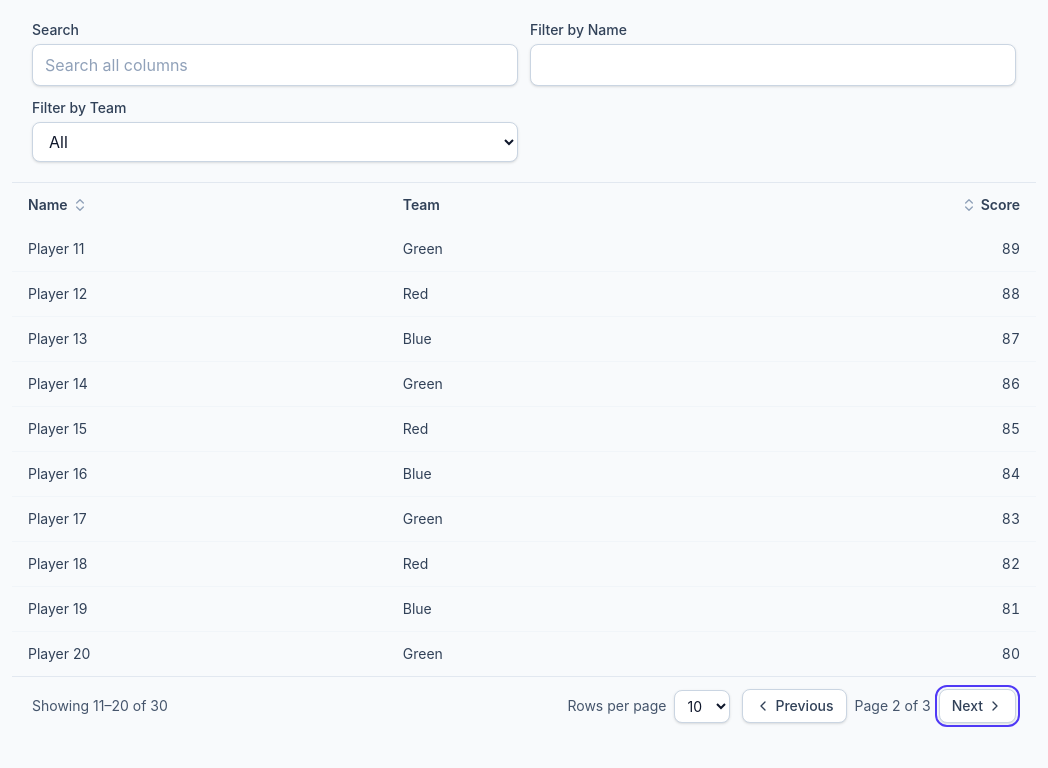
DataTable › keeps focus on Next when it reaches the last page
This screenshot has width=1048, height=768.
Click the button "Next": (977, 706) [939,689,1016,723]
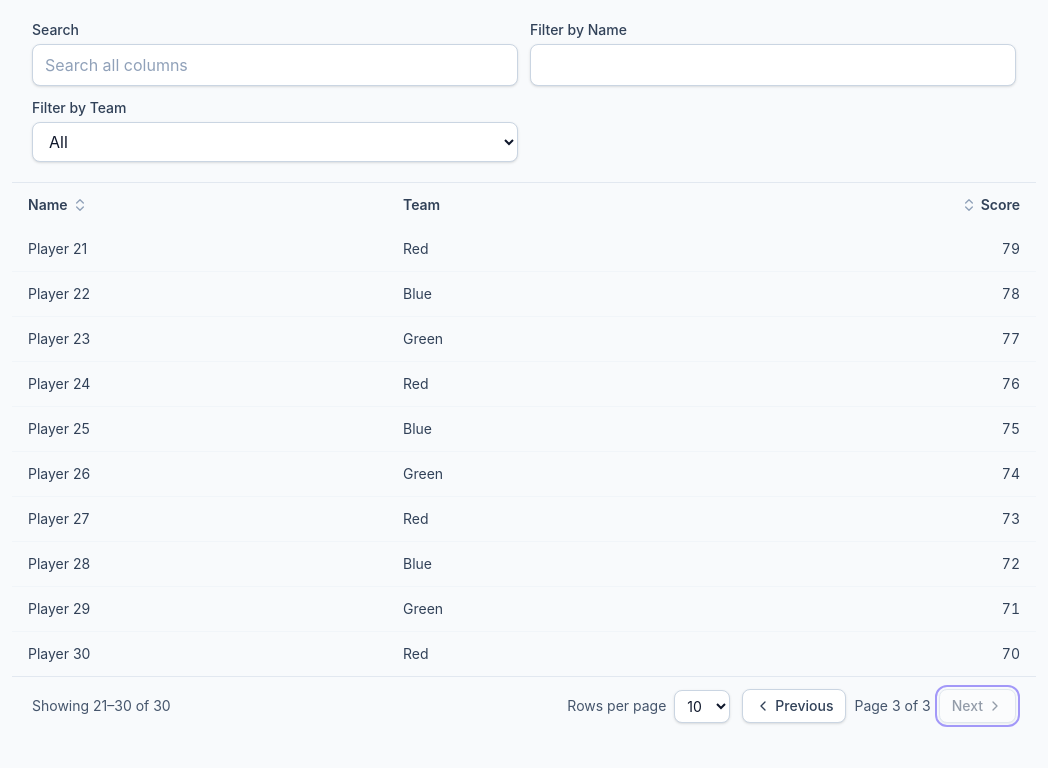
Now the text "Page 3 of 3" is shown, box [854,696,931,716]
